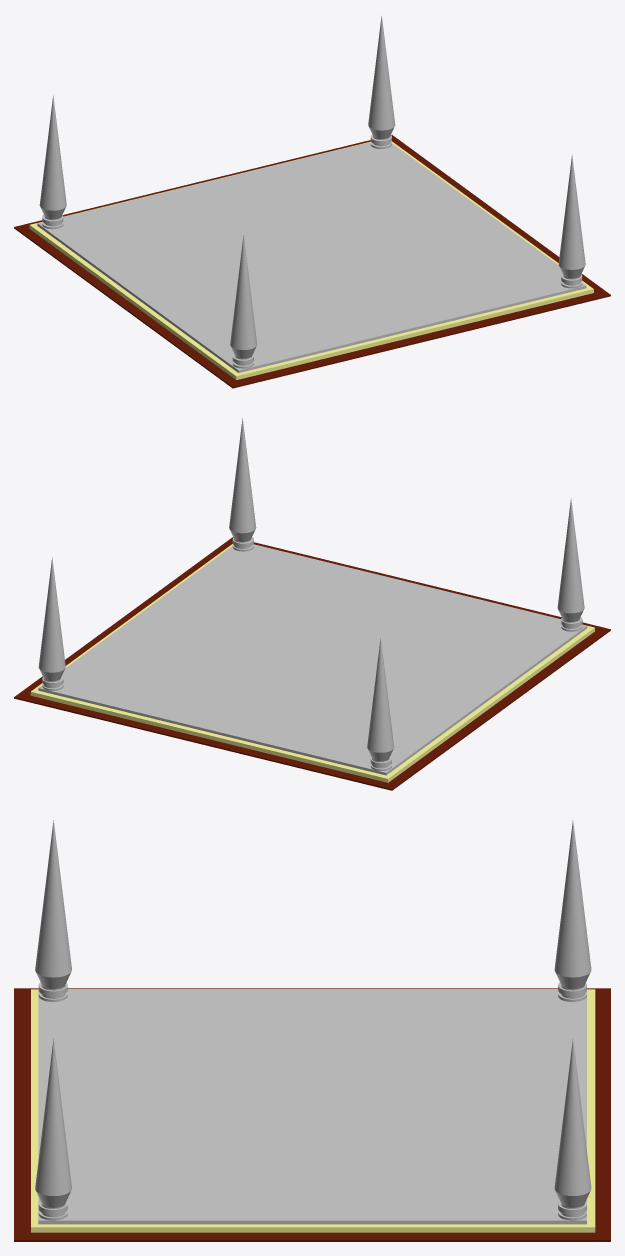
File: DBZ MAP.obj
3 views of the same model, one above another, from view 1: azimuth 30°, elevation 25°; view 2: azimuth 150°, elevation 25°; view 3: azimuth 270°, elevation 25° (orthographic). The views are drawn at different scales.
Parts seen in each view (by area): view 1: Stage1, Part1, Part2, Meshpart4, Meshpart3, Meshpart1, Meshpart2; view 2: Stage1, Part1, Part2, Meshpart2, Meshpart3, Meshpart4, Meshpart1; view 3: Stage1, Part1, Part2, Meshpart4, Meshpart3, Meshpart1, Meshpart2.
Boxes of the visible parts, x1,y1,x2,y2 form: Stage1: (37, 142, 586, 372); Part1: (14, 135, 610, 388); Part2: (29, 141, 593, 379); Meshpart4: (558, 154, 585, 288); Meshpart3: (230, 235, 257, 368); Meshpart1: (39, 95, 66, 229); Meshpart2: (368, 15, 395, 148); Stage1: (38, 544, 587, 775); Part1: (14, 537, 610, 790); Part2: (30, 544, 594, 782); Meshpart2: (38, 557, 65, 690); Meshpart3: (557, 498, 584, 631); Meshpart4: (229, 418, 256, 551); Meshpart1: (367, 638, 394, 770); Stage1: (38, 989, 586, 1224); Part1: (14, 988, 610, 1241); Part2: (31, 989, 595, 1232); Meshpart4: (35, 1039, 71, 1220); Meshpart3: (35, 820, 71, 1001); Meshpart1: (554, 820, 591, 1001); Meshpart2: (554, 1039, 591, 1220).
Bounding box in the file's own units: 360 × 126 × 361.
